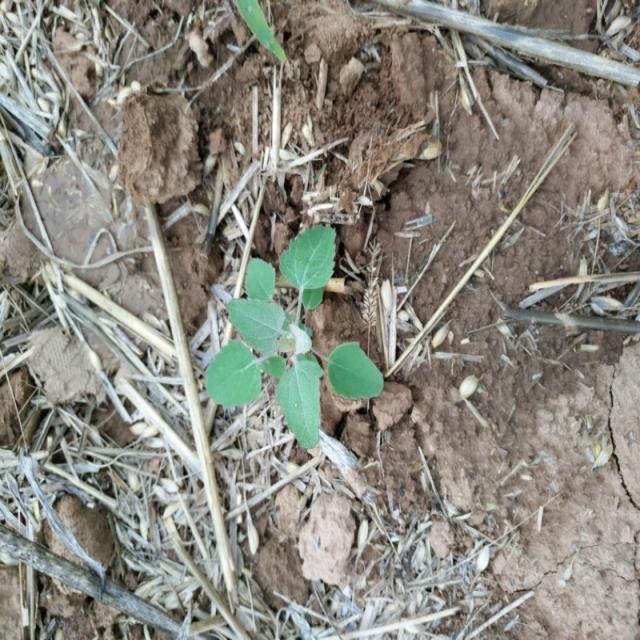goosefoots: (191, 230, 383, 452)
